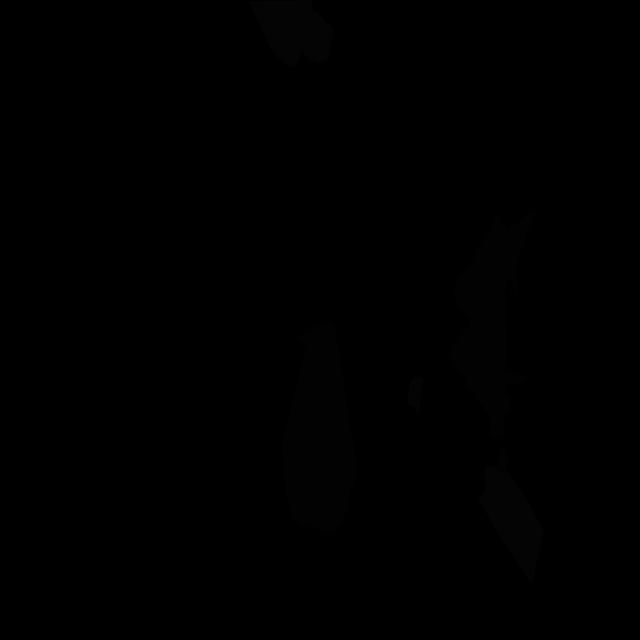cardboard: (448, 208, 538, 436), (282, 323, 357, 533), (497, 443, 508, 473)
soft_plastic: (478, 466, 544, 582), (249, 0, 334, 67), (407, 377, 422, 412)
